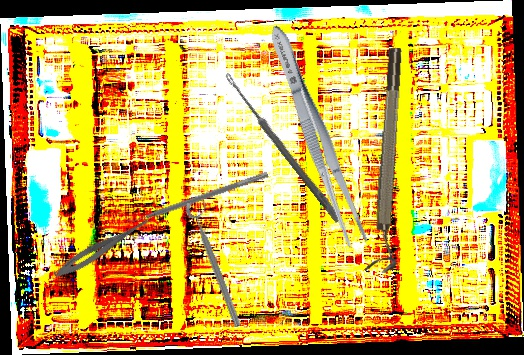Dressing Forceps: (260, 20, 374, 252)
Fixation Ring: (365, 47, 416, 274), (183, 196, 252, 330)
Micro Scissor: (51, 209, 157, 283)
Spatula Surgical: (124, 164, 269, 229)
Surgical Spoon: (222, 71, 343, 224)
